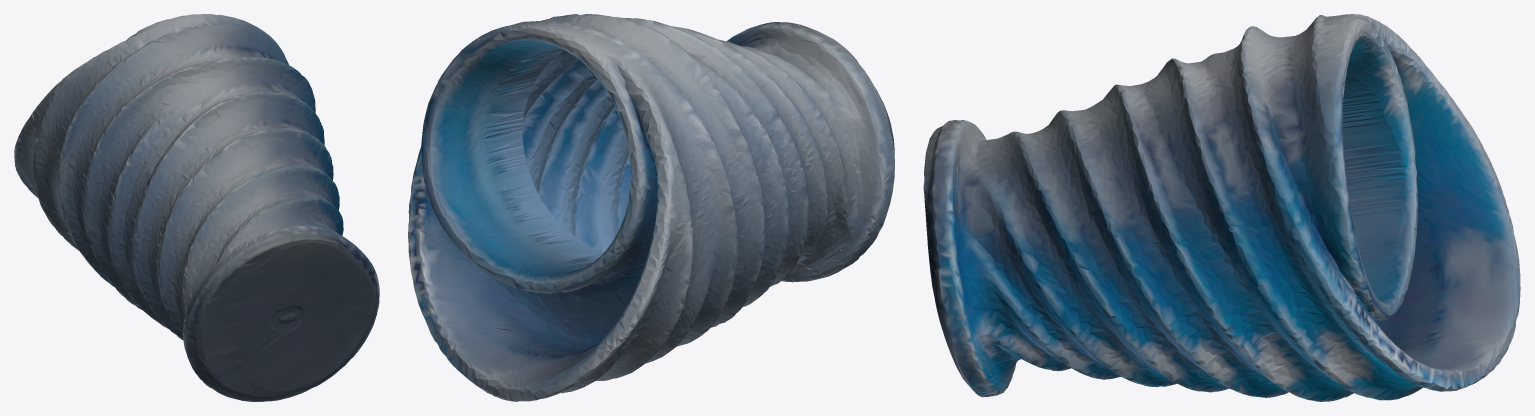
File: H3-web.glb
3 views of the same model, side by side, from view 1: azimuth 30°, elevation 25°; view 2: azimuth 150°, elevation 25°; view 3: azimuth 270°, elevation 25° (orthographic). The views are drawn at different scales.
Visible parts, largest first — view 1: geometry_0; view 2: geometry_0; view 3: geometry_0.
Boxes of the visible parts, x1,y1,x2,y2 form: geometry_0: (14,14,379,401); geometry_0: (408,14,894,401); geometry_0: (923,14,1520,401).
Size of the model in its own units: 0.1454 by 0.1543 by 0.2216.
